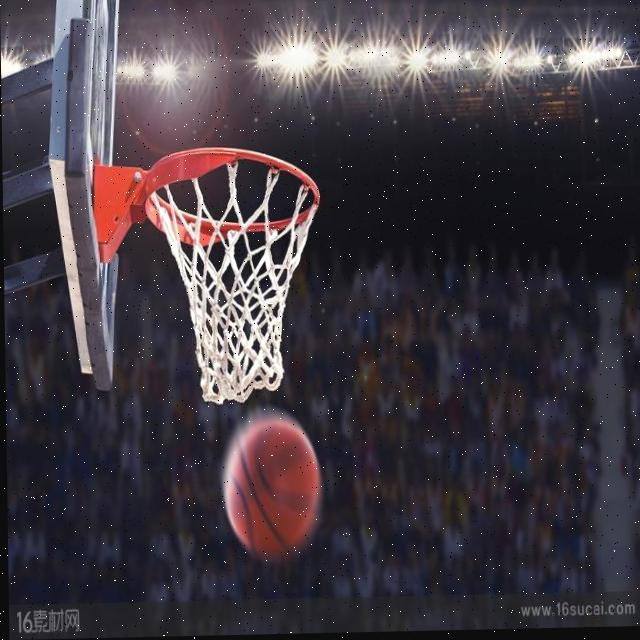Basketball: (223, 417, 325, 562)
